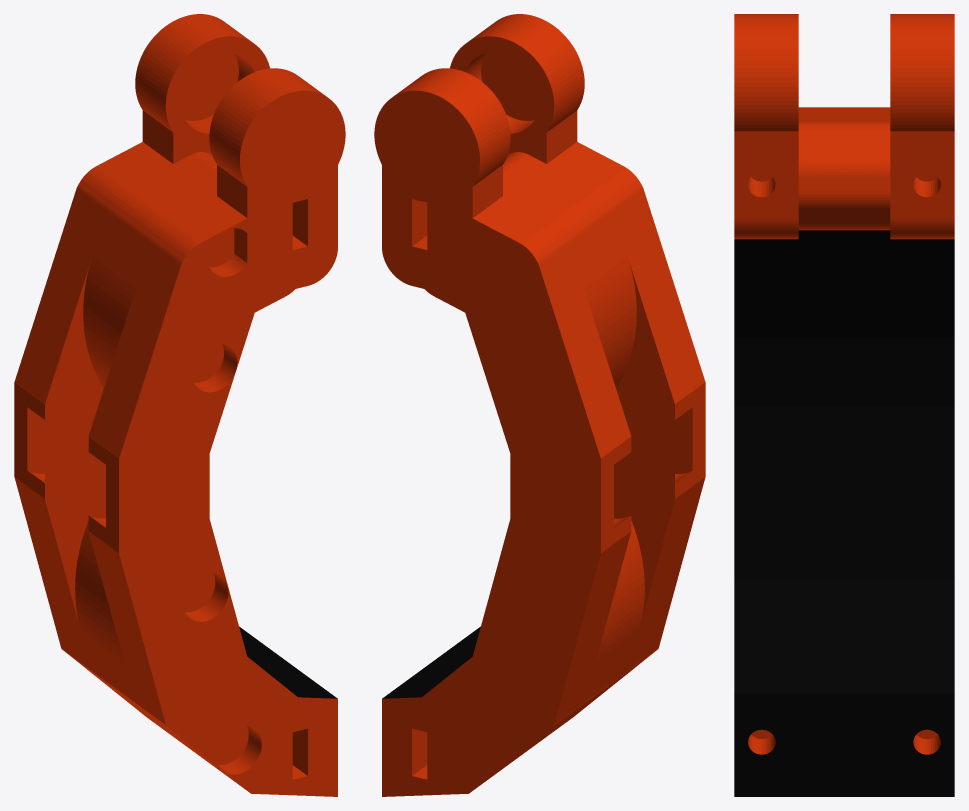
The model's file is 08_RR1_grip_opposite.dae.
3 views of the same model, side by side, from view 1: azimuth 30°, elevation 25°; view 2: azimuth 150°, elevation 25°; view 3: azimuth 270°, elevation 25° (orthographic). The views are drawn at different scales.
Visible parts, largest first — view 1: RR1-grip-finger-opposite; view 2: RR1-grip-finger-opposite; view 3: RR1-grip-finger-opposite.
Boxes of the visible parts, x1,y1,x2,y2 form: RR1-grip-finger-opposite: (14,14,345,796); RR1-grip-finger-opposite: (374,14,705,796); RR1-grip-finger-opposite: (734,14,954,796).
Size of the model in its own units: 30 by 24 by 90.58.
